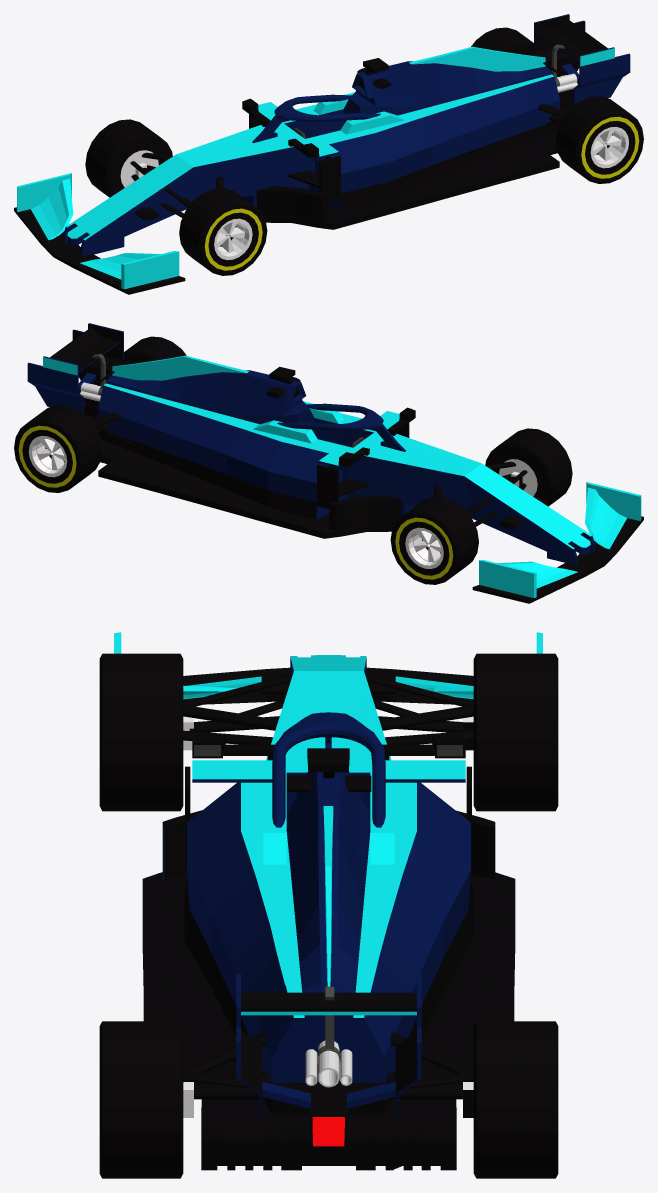
The model's file is low-poly-f1-car-transformed.glb.
The picture shows the model from 3 angles, top to bottom: view 1: azimuth 30°, elevation 25°; view 2: azimuth 150°, elevation 25°; view 3: azimuth 270°, elevation 25°; orthographic projection. The views are drawn at different scales.
Parts seen in each view (by area): view 1: Cube; view 2: Cube; view 3: Cube, Cube.002.
Boxes of the visible parts, left/top/right/bottom form: Cube: left=14, top=14, right=643, bottom=294; Cube: left=14, top=323, right=643, bottom=603; Cube: left=99, top=632, right=558, bottom=1178; Cube.002: left=194, top=745, right=462, bottom=1146.
Bounding box in the file's own units: 13.96 × 2.93 × 5.01.
Materials: 5 (5 with a texture image).
